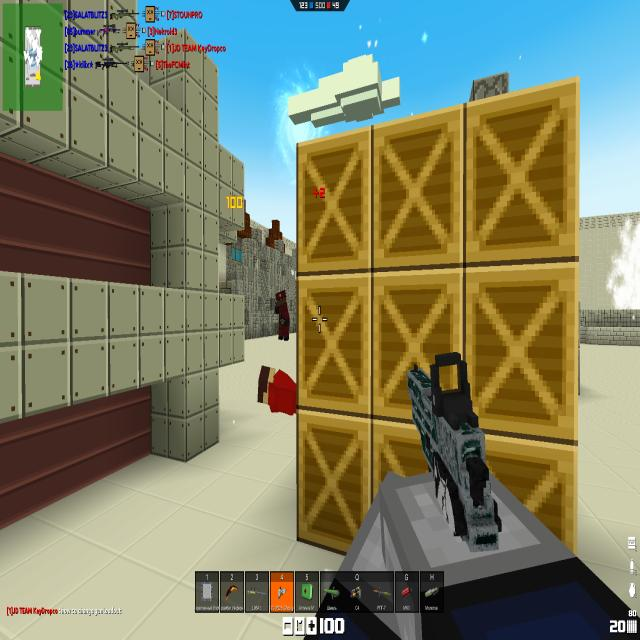player: (257, 367, 296, 416), (274, 289, 290, 341)
